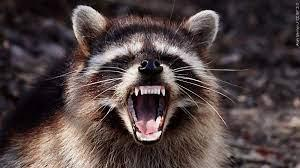raccoon: (0, 0, 246, 168)
